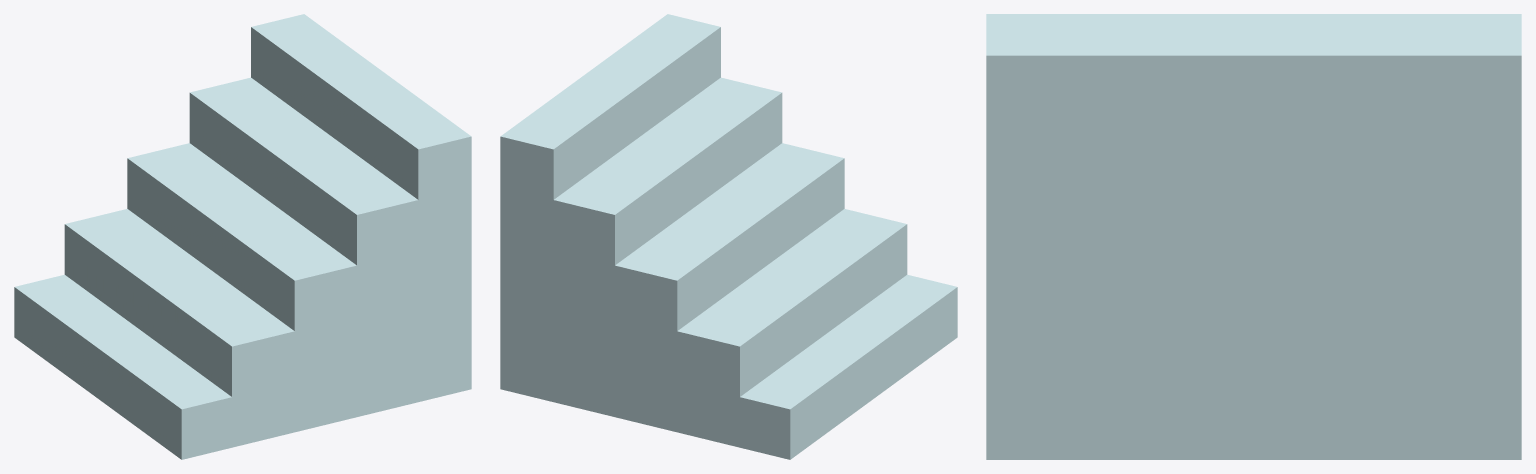
File: SS_Castle_Stair.fbx
3 renders of one model, left to right at view 1: azimuth 30°, elevation 25°; view 2: azimuth 150°, elevation 25°; view 3: azimuth 270°, elevation 25°, orthographic. The views are drawn at different scales.
Visible parts, largest first — view 1: CastleStairs1; view 2: CastleStairs1; view 3: CastleStairs1.
Boxes of the visible parts, x1,y1,x2,y2 form: CastleStairs1: (14,14,471,459); CastleStairs1: (500,14,957,459); CastleStairs1: (986,14,1521,459).
Bounding box in the file's own units: 5 × 4.17 × 5.
